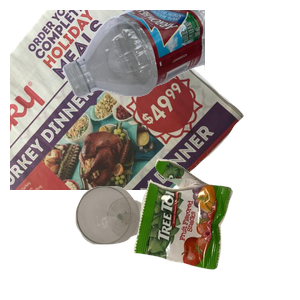glass: (73, 184, 214, 300)
paper: (10, 10, 247, 190)
plastic: (60, 10, 300, 100)
trash: (131, 156, 300, 300)
